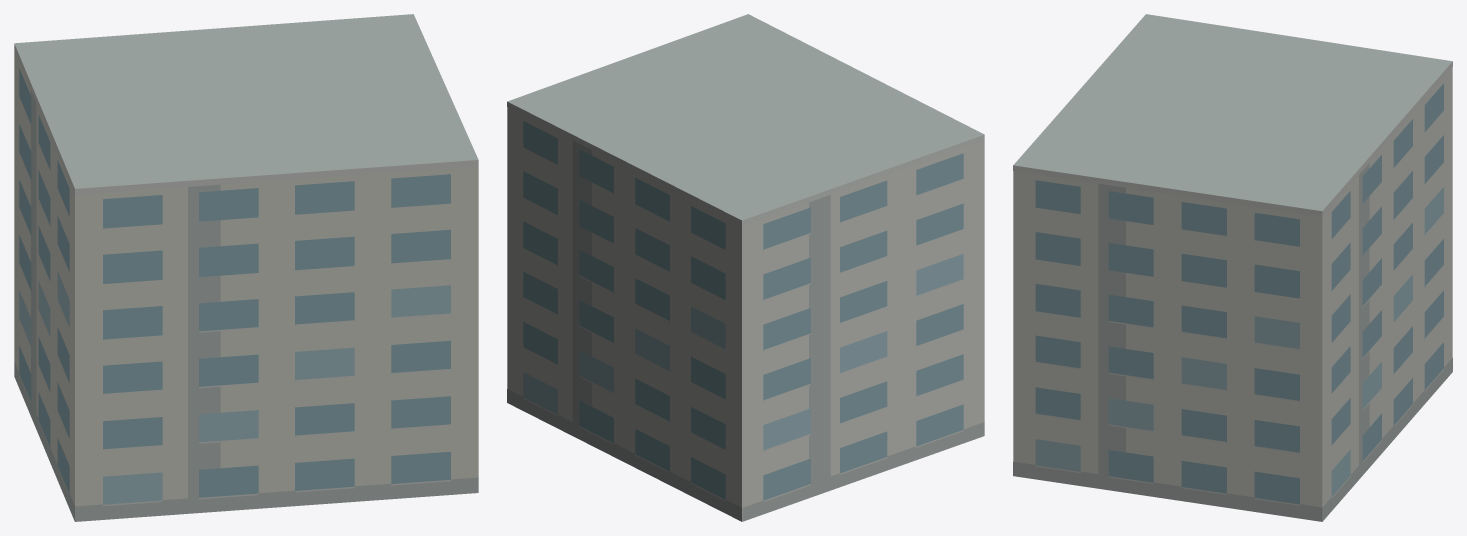
File: survey-upis-32886855.glb
3 views of the same model, side by side, from view 1: azimuth 30°, elevation 25°; view 2: azimuth 150°, elevation 25°; view 3: azimuth 270°, elevation 25° (orthographic). The views are drawn at different scales.
Visible parts, largest first — view 1: survey-upis-32886855.tmp; view 2: survey-upis-32886855.tmp; view 3: survey-upis-32886855.tmp.
Part boxes in pixels (x1=…): survey-upis-32886855.tmp: x1=14, y1=14, x2=478, y2=521; survey-upis-32886855.tmp: x1=507, y1=14, x2=984, y2=521; survey-upis-32886855.tmp: x1=1013, y1=14, x2=1452, y2=521.
Size of the model in its own units: 18.12 by 13.3 by 17.07.
